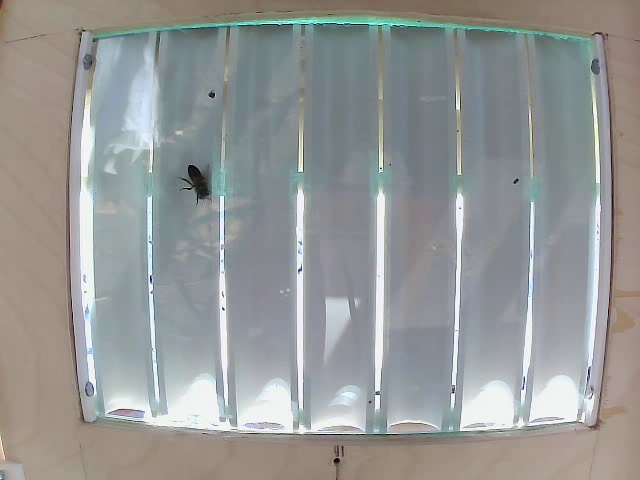bee: (177, 148, 225, 204)
